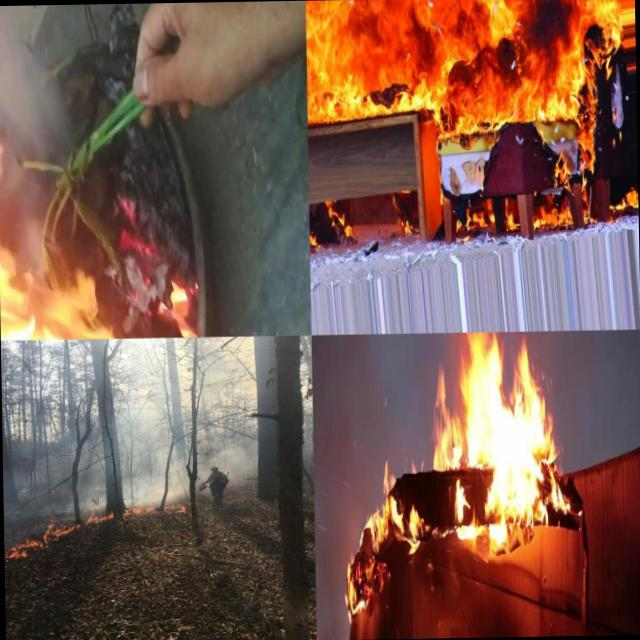fire: (305, 0, 623, 141), (426, 330, 566, 548), (336, 459, 428, 613), (0, 119, 41, 339), (0, 5, 37, 121), (43, 305, 124, 339), (78, 506, 115, 525), (17, 532, 49, 551), (157, 498, 190, 516), (122, 501, 156, 517), (49, 518, 76, 538), (4, 550, 27, 568)
smoke: (37, 3, 123, 300), (1, 339, 72, 517), (112, 338, 186, 500), (185, 336, 258, 464), (70, 338, 116, 505)
